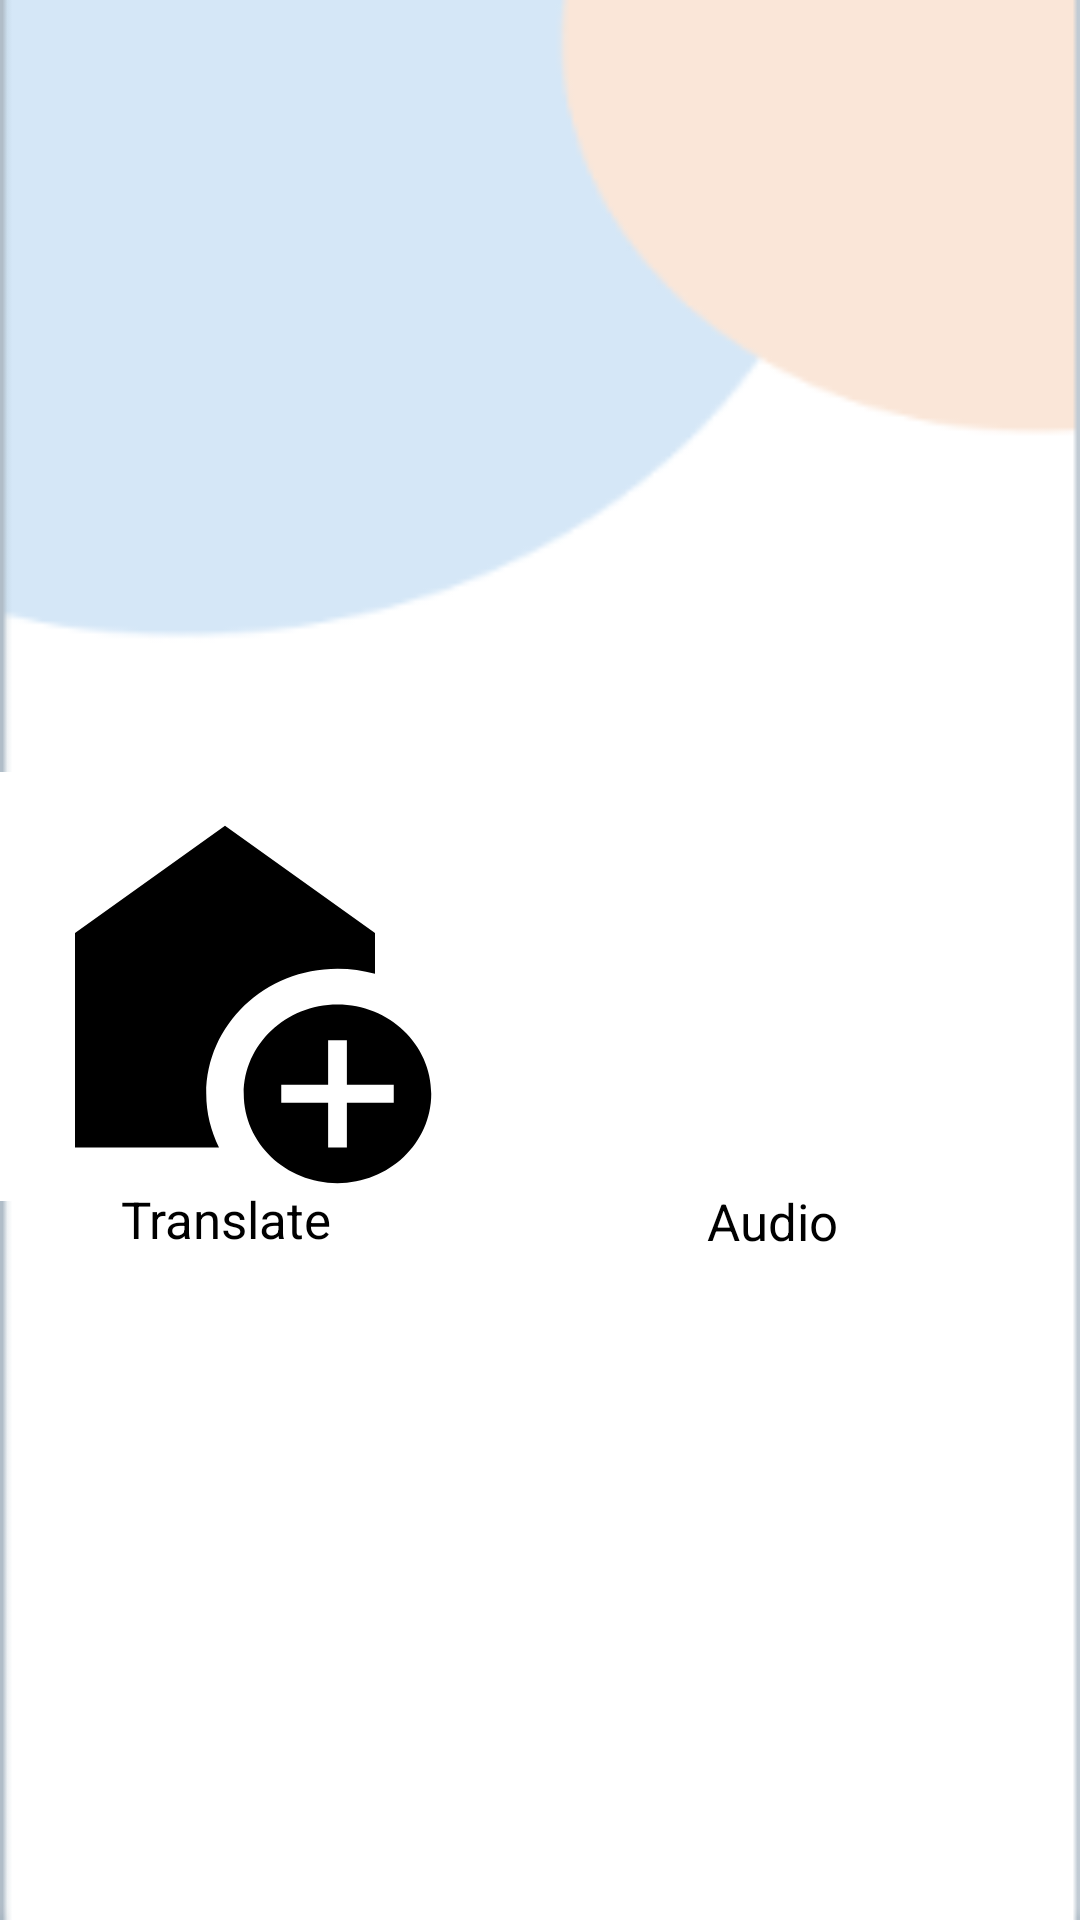

Where icons sit on this 1080x1920 app screen, as (x1, y1, x2, y2):
add home: (75, 826, 432, 1184)
